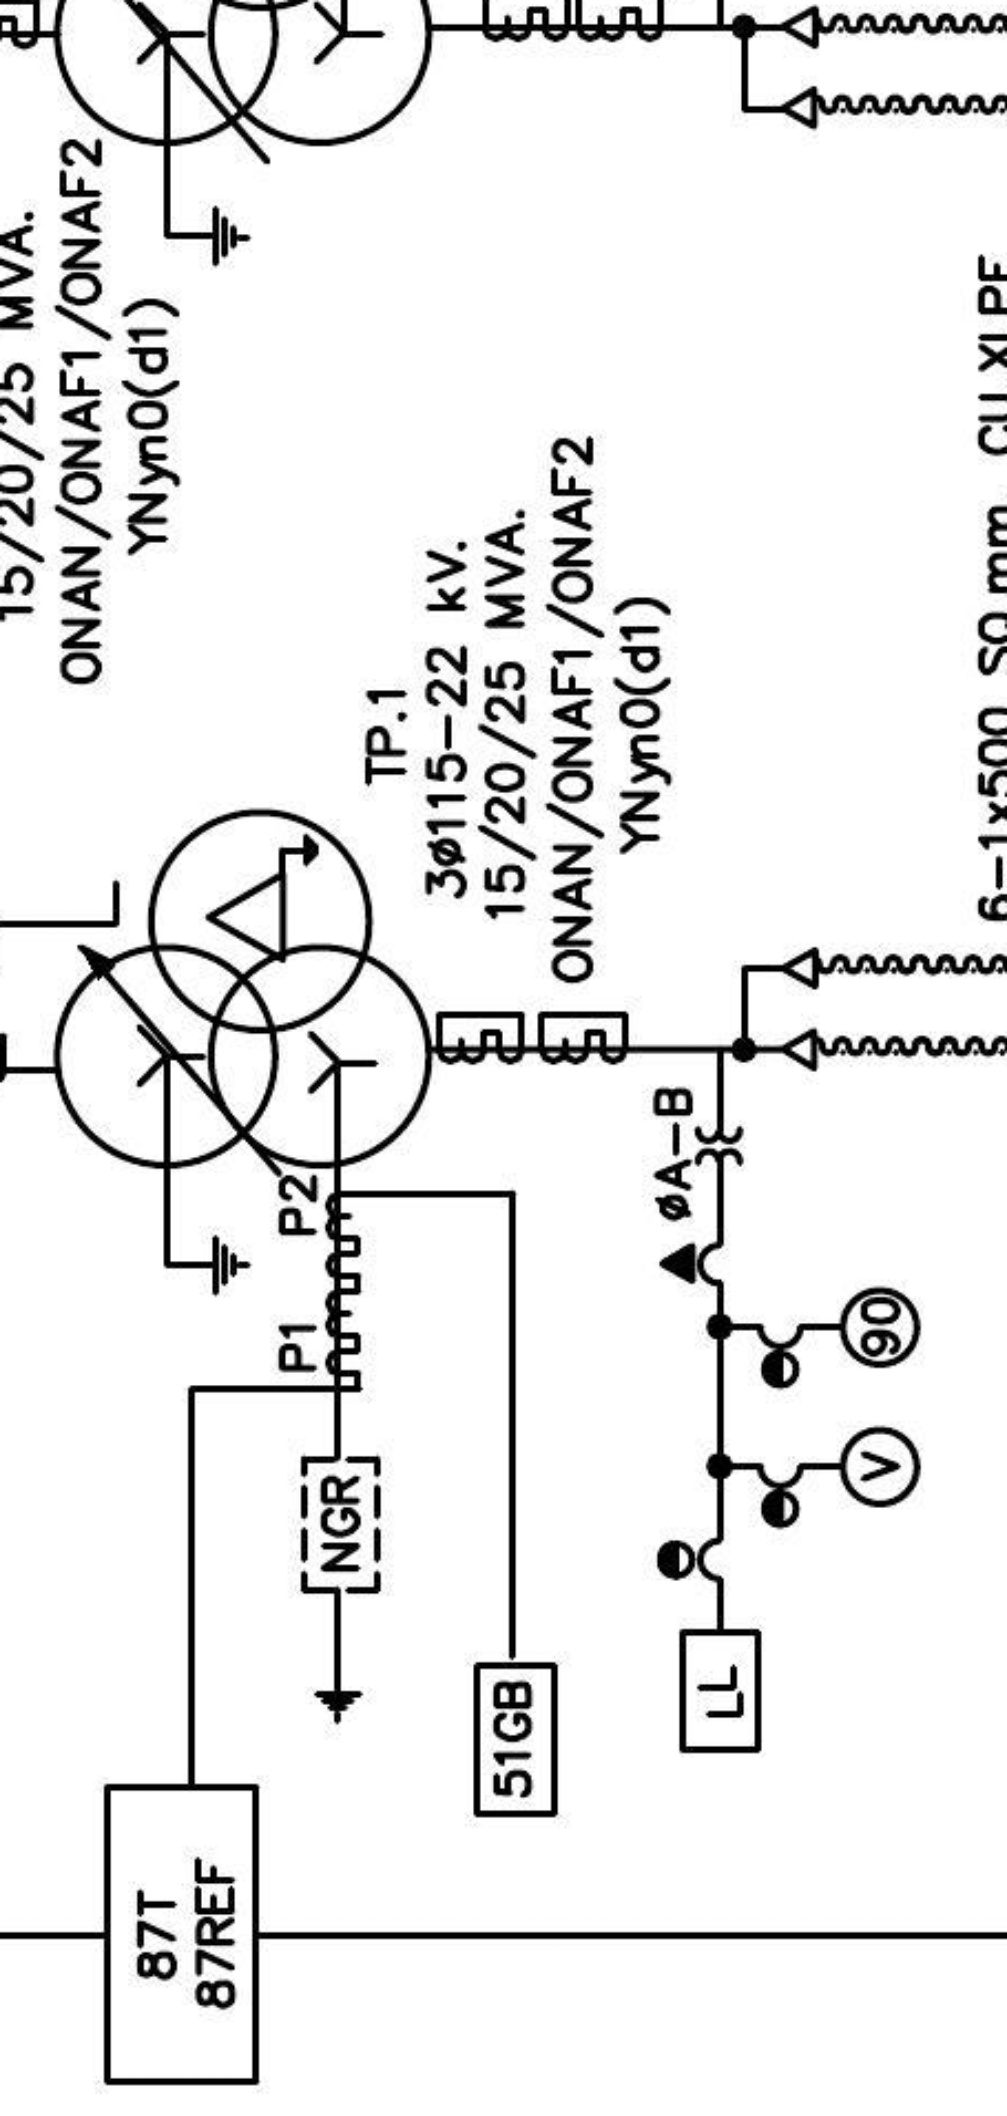11522_tx_ynyn0d1: (51, 806, 435, 1171)
LL: (678, 1627, 761, 1756)
NGR_future: (300, 1455, 383, 1725)
terminator_double: (740, 946, 819, 1073), (740, 4, 819, 131)
v_m: (837, 1424, 923, 1510)
